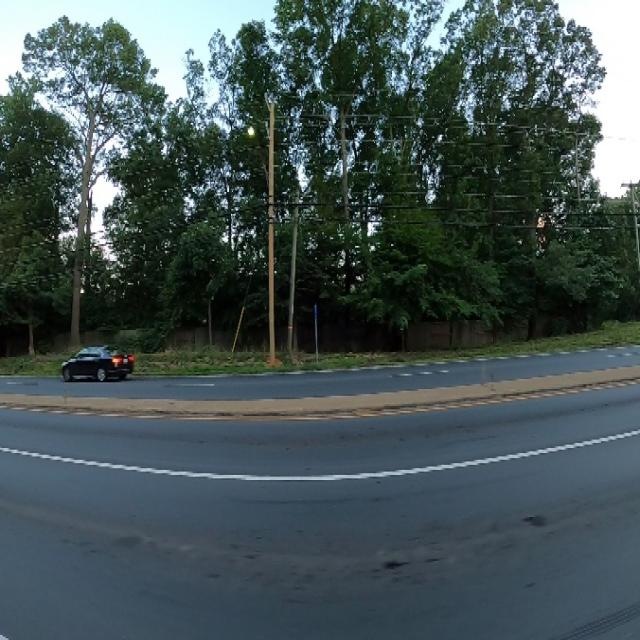car: (51, 327, 137, 394)
